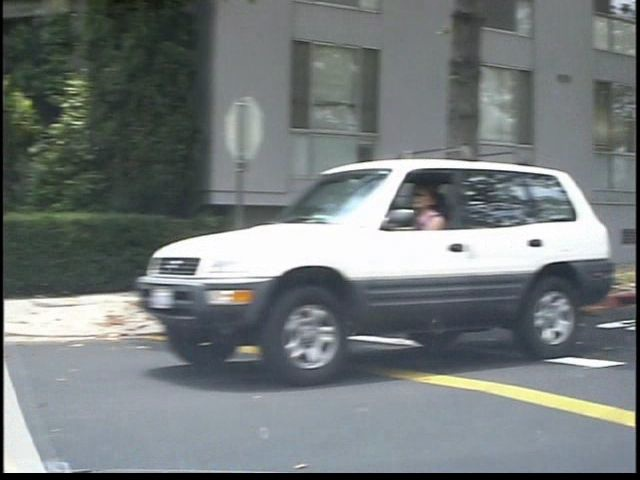person: (422, 174, 472, 363)
